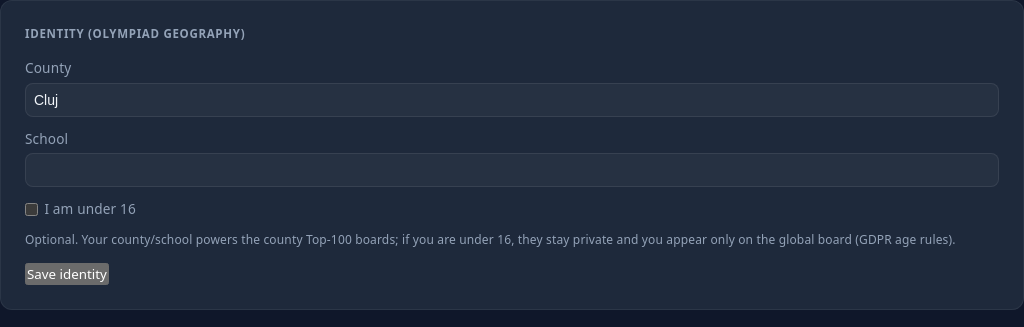
Test case: IdentityCard (RO-3) › shows the error line when the save fails
The width and height of the screenshot is (1024, 327).
Click the button with test id "identity-save": point(67, 274) [25,263,109,285]
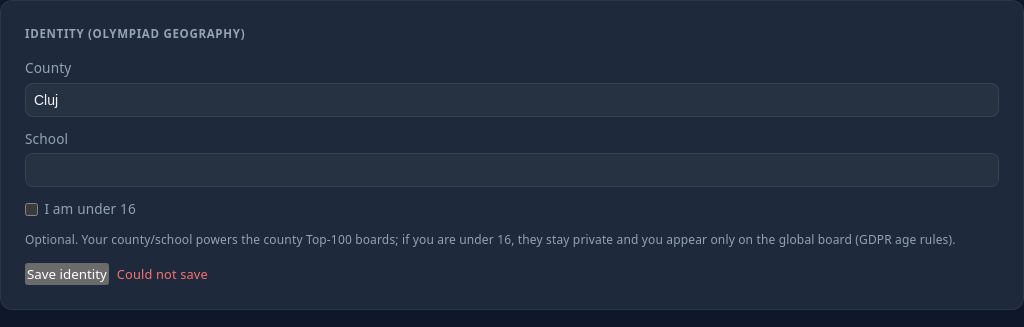
Now the text "Could not save" is shown, box [117,265,208,283]
